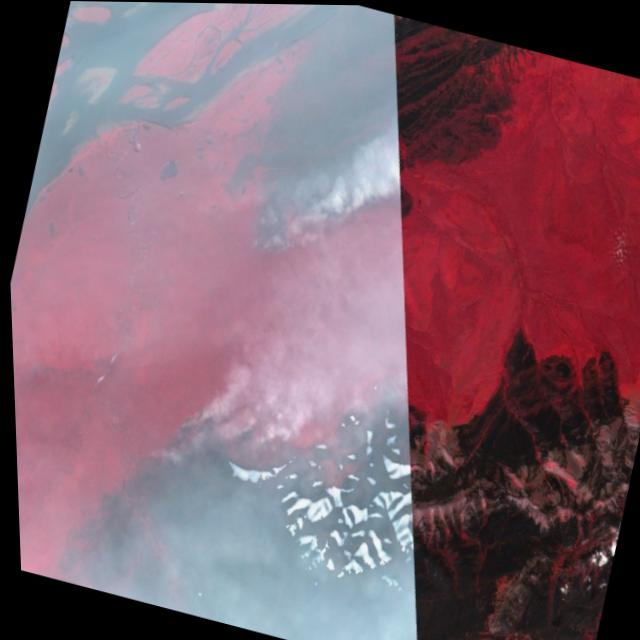fire: (136, 343, 371, 521), (231, 124, 409, 291)
